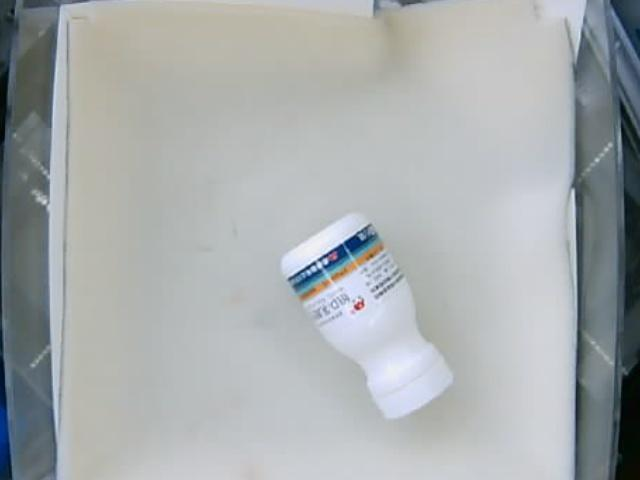Bottle: (279, 212, 448, 425)
